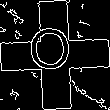O_S: (32, 29, 78, 81)
